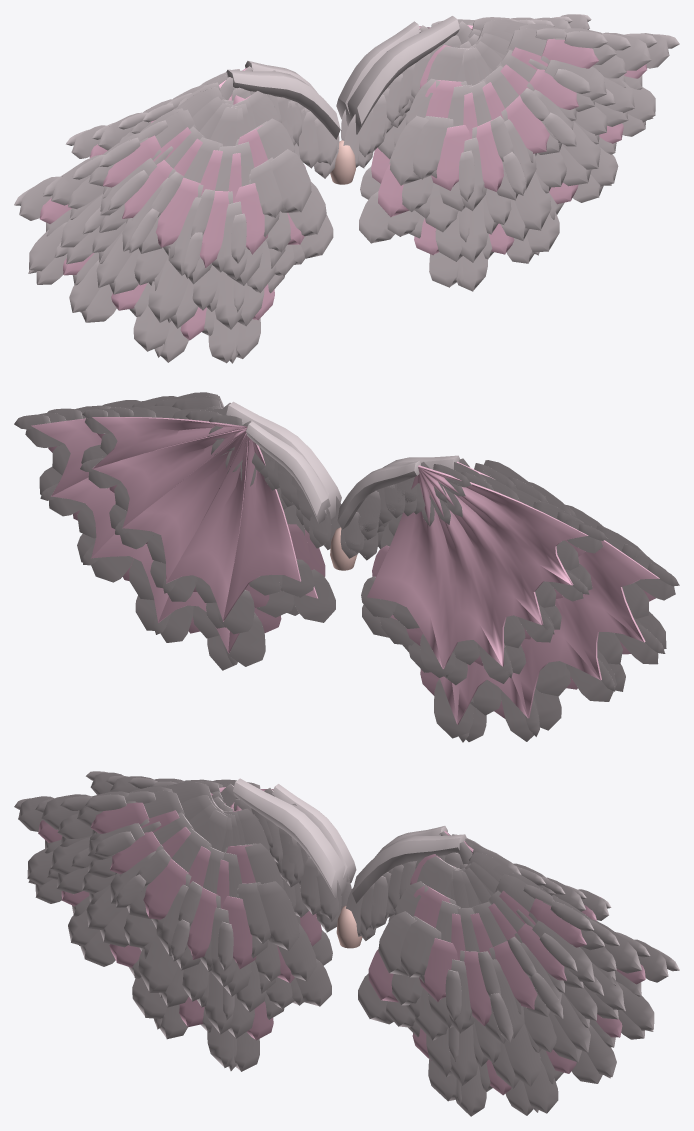
Rendered from wings.glb.
3 renders of one model, top to bottom at view 1: azimuth 30°, elevation 25°; view 2: azimuth 150°, elevation 25°; view 3: azimuth 330°, elevation 25°, orthographic.
Visible parts, largest first — view 1: wings; view 2: wings; view 3: wings.
Part boxes in pixels (x1,y1,x2,y2): wings: (14,14,679,363); wings: (14,392,679,742); wings: (14,771,679,1116).
Size of the model in its own units: 6.42 by 2.66 by 0.4619.
